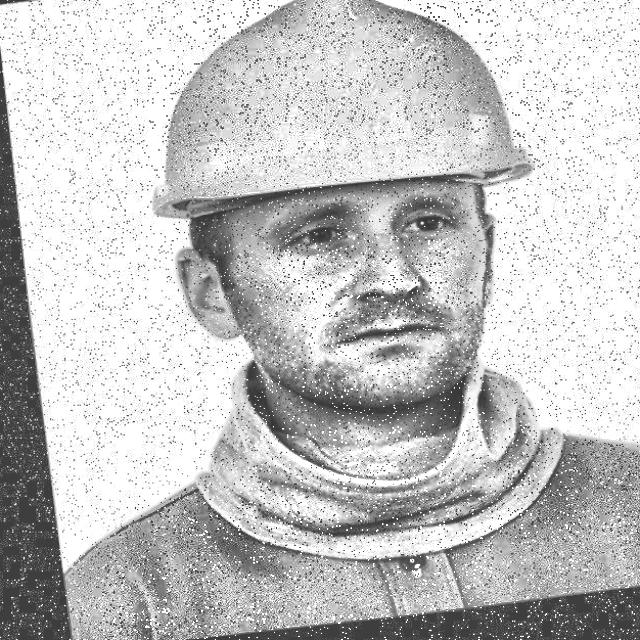Helmet: (119, 0, 559, 451)
